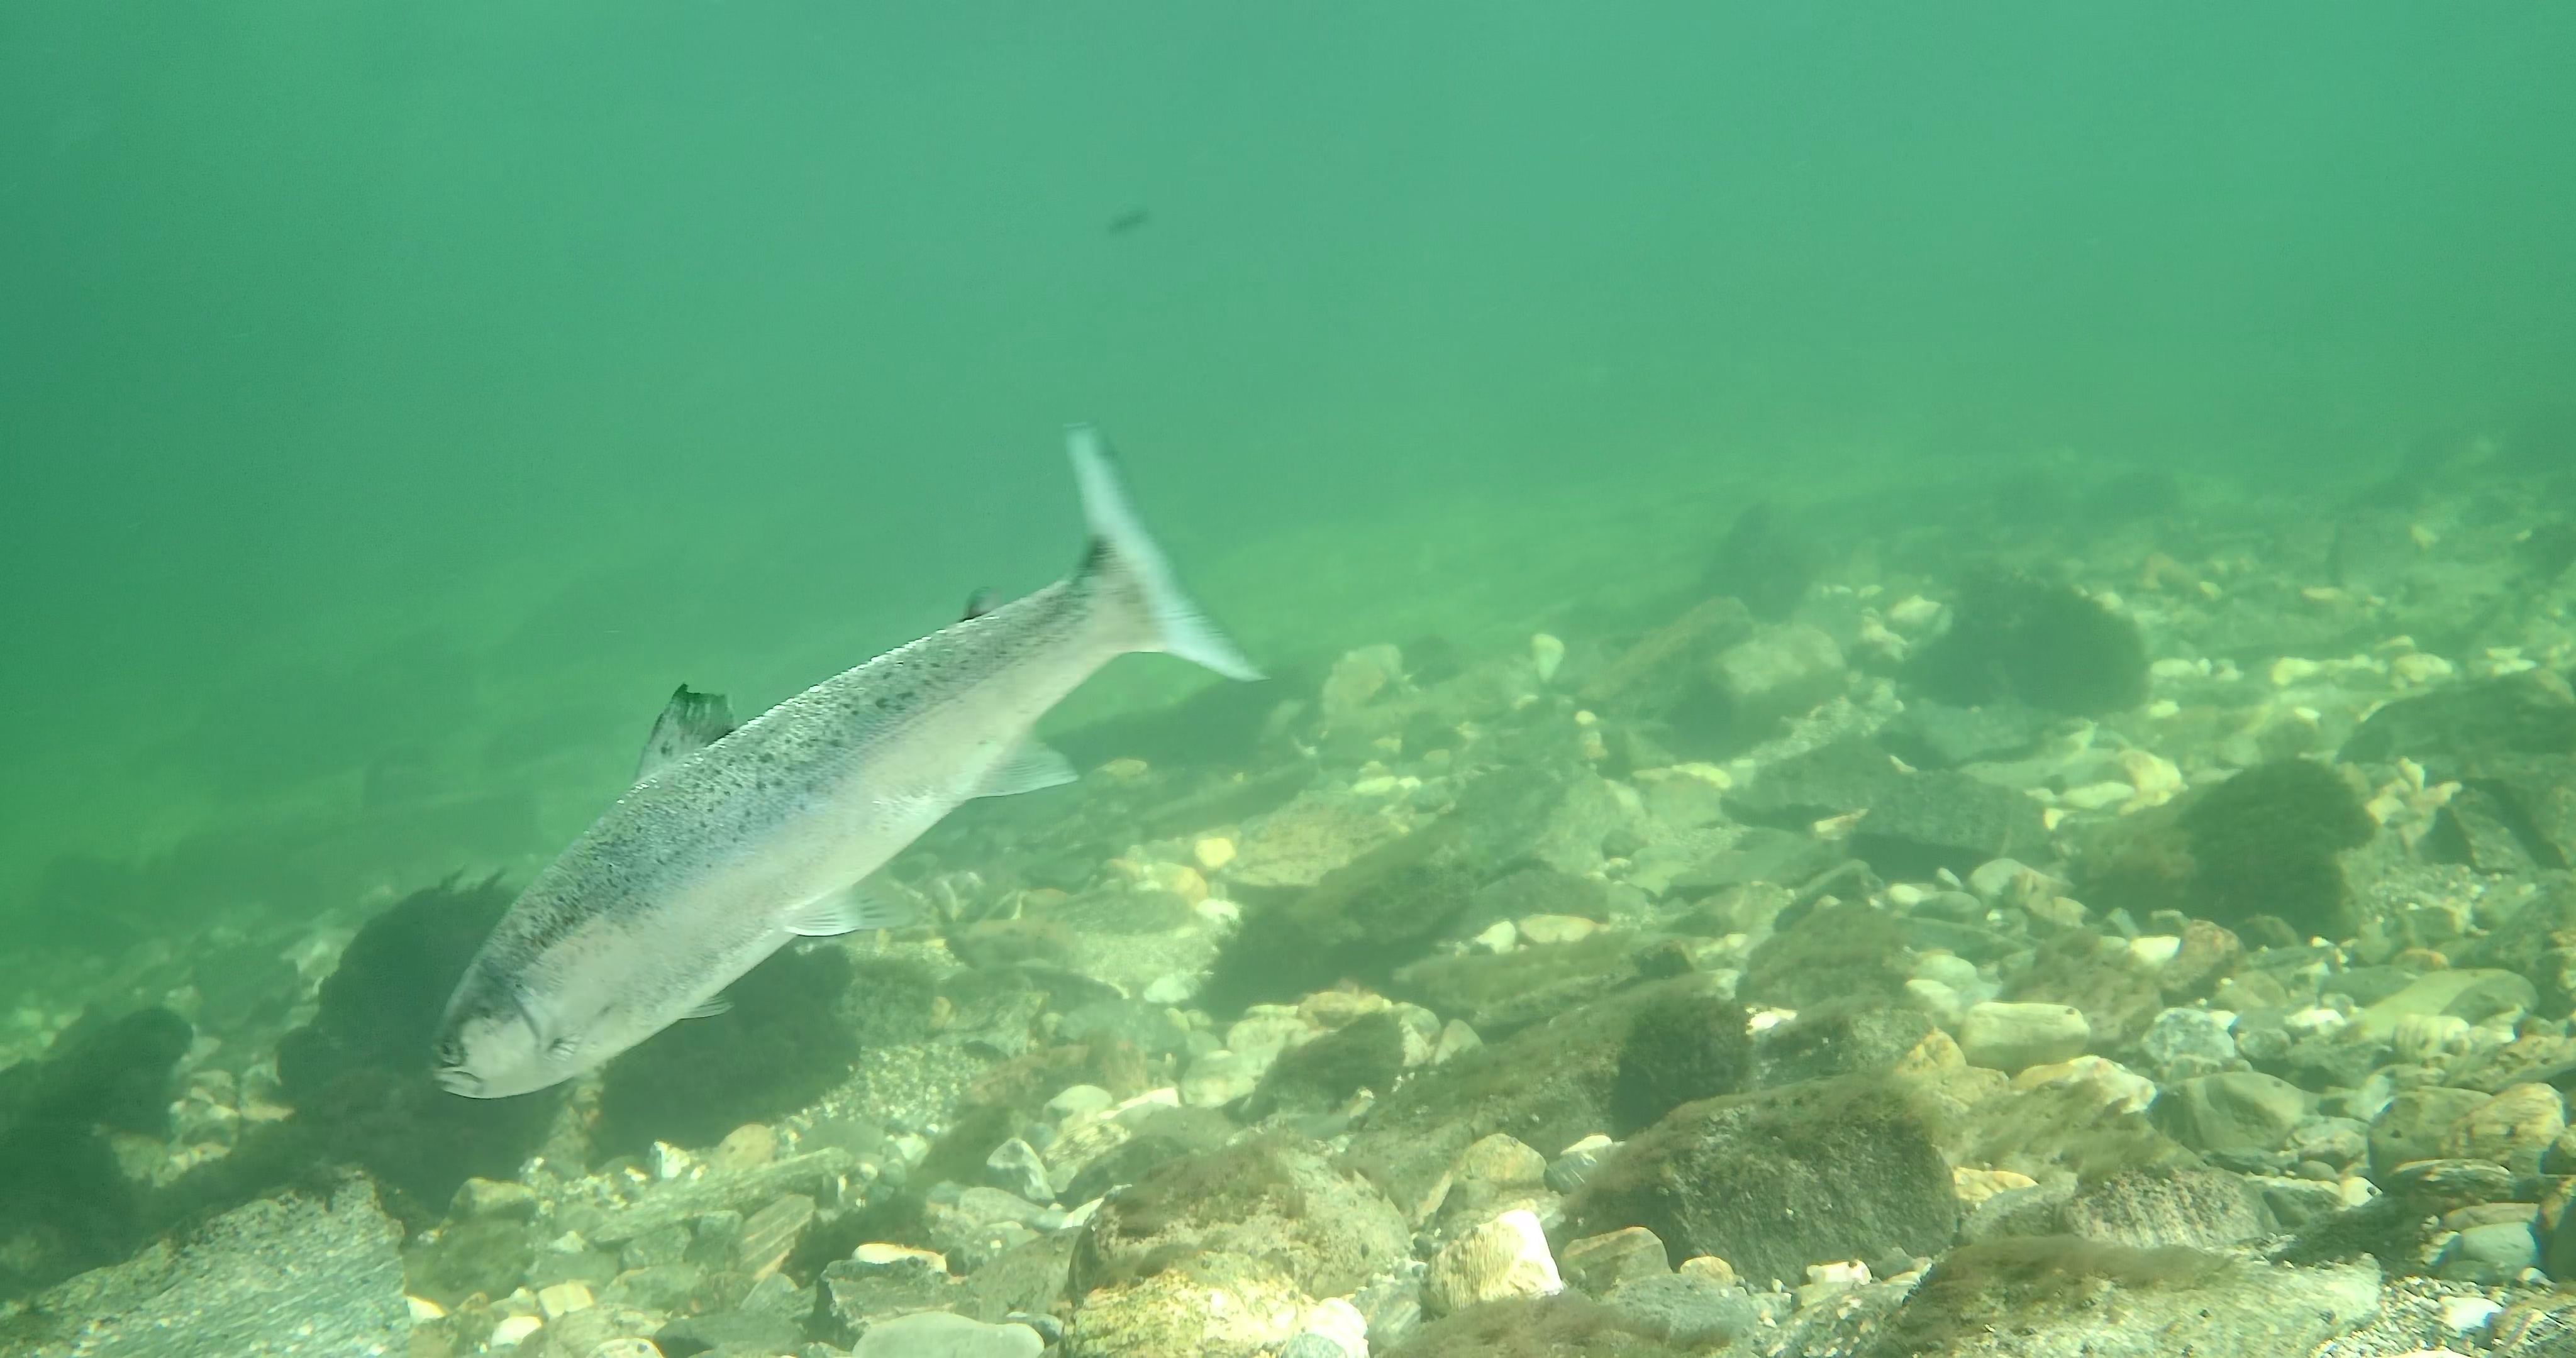salmon: (426, 423, 1271, 1102)
